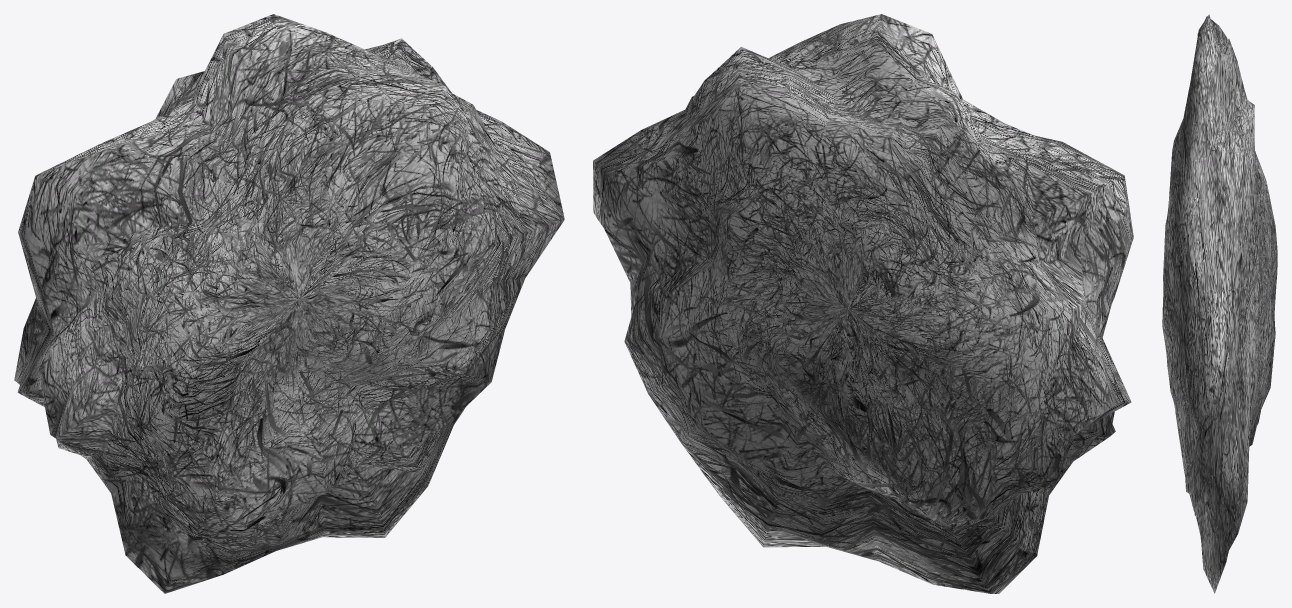
Rendered from fracture_island.obj.
The picture shows the model from 3 angles, left to right: view 1: azimuth 30°, elevation 25°; view 2: azimuth 150°, elevation 25°; view 3: azimuth 270°, elevation 25°; orthographic projection. The views are drawn at different scales.
Parts seen in each view (by area): view 1: Sphere; view 2: Sphere; view 3: Sphere.
Part boxes in pixels (left/top/right/bottom): Sphere: left=14, top=14, right=564, bottom=593; Sphere: left=593, top=14, right=1133, bottom=593; Sphere: left=1162, top=14, right=1277, bottom=593.
Bounding box in the file's own units: 20.56 × 20.17 × 4.11.
